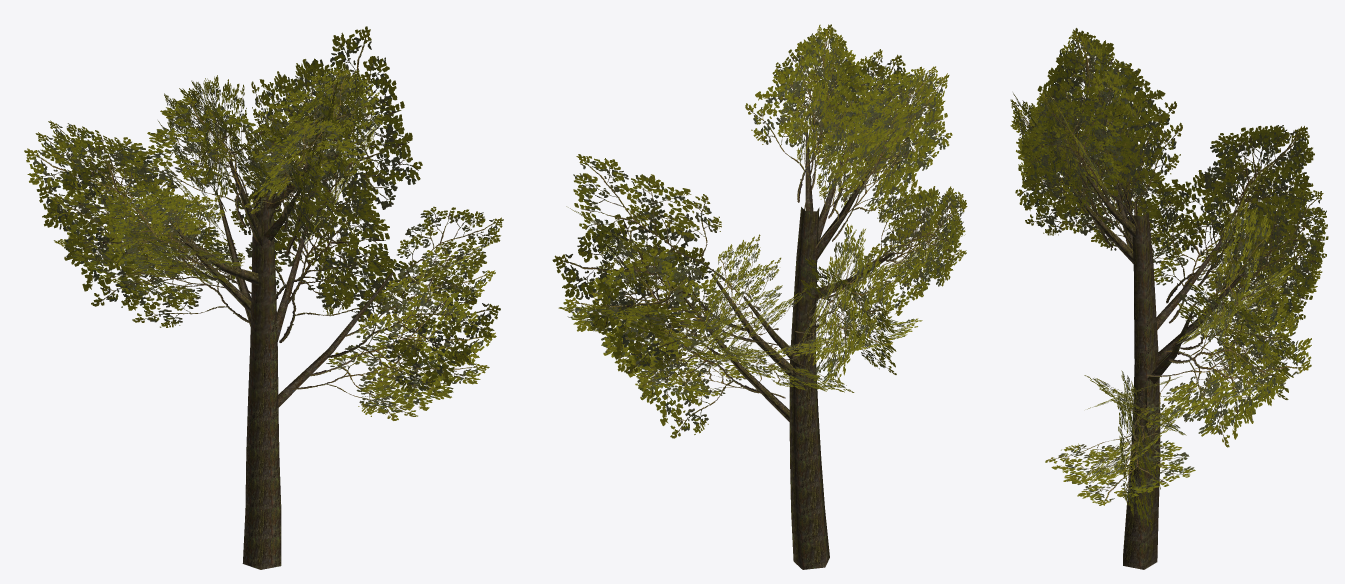
Rendered from pine10_lod2.glb.
3 renders of one model, left to right at view 1: azimuth 30°, elevation 25°; view 2: azimuth 150°, elevation 25°; view 3: azimuth 270°, elevation 25°, orthographic. The views are drawn at different scales.
Parts seen in each view (by area): view 1: pine10_lod2; view 2: pine10_lod2; view 3: pine10_lod2.
Boxes of the visible parts, x1,y1,x2,y2 form: pine10_lod2: (24, 26, 503, 569); pine10_lod2: (552, 24, 967, 569); pine10_lod2: (1010, 28, 1328, 569).
Bounding box in the file's own units: 36.31 × 46.24 × 27.43.
Materials: 2 (2 with a texture image).
